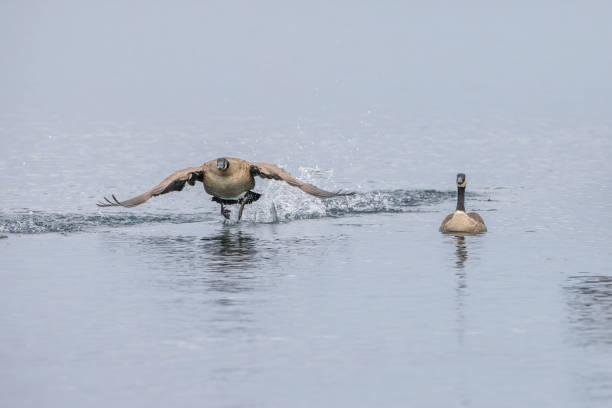Canadian-Goose: (101, 150, 336, 227), (438, 170, 487, 238)
